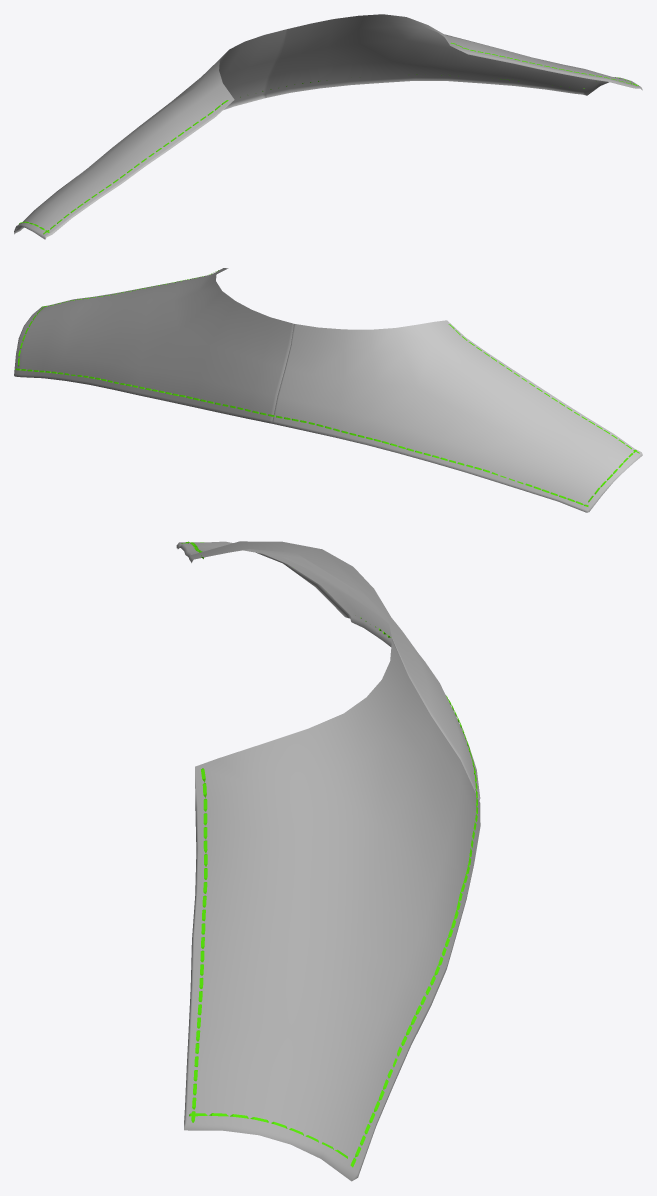
File: danganzhongpogu.fbx
The picture shows the model from 3 angles, top to bottom: view 1: azimuth 30°, elevation 25°; view 2: azimuth 150°, elevation 25°; view 3: azimuth 270°, elevation 25°; orthographic projection. The views are drawn at different scales.
Parts seen in each view (by area): view 1: danganzhongpogu002, danganzhongpogu001; view 2: danganzhongpogu001, danganzhongpogu002; view 3: danganzhongpogu002, danganzhongpogu001.
Part boxes in pixels (x1,y1,x2,y2): danganzhongpogu002: (265, 14, 642, 97); danganzhongpogu001: (14, 29, 286, 239); danganzhongpogu001: (272, 320, 642, 512); danganzhongpogu002: (14, 268, 293, 423); danganzhongpogu002: (184, 639, 480, 1181); danganzhongpogu001: (176, 541, 480, 800).
Bounding box in the file's own units: 44.5 × 9.44 × 9.74.
